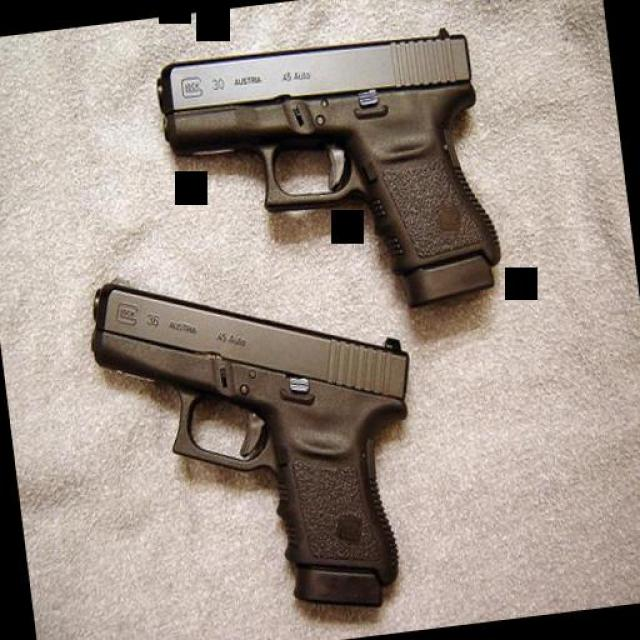gun: (81, 241, 436, 639), (146, 20, 509, 332)
